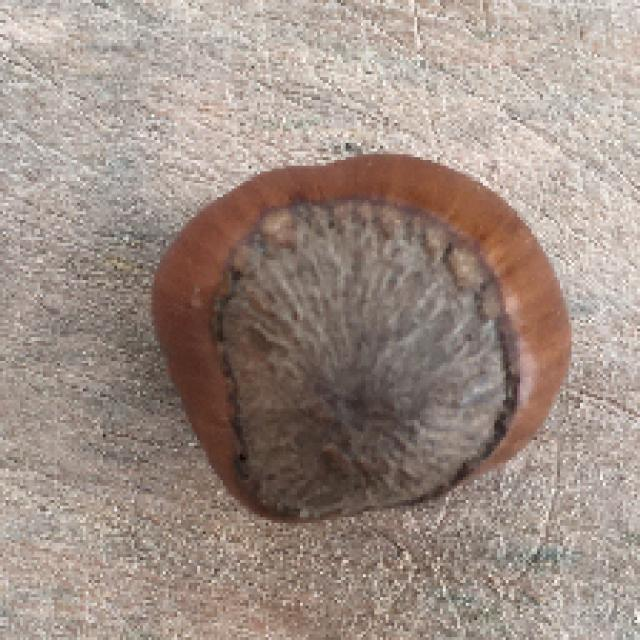DamagedHazelnut: (148, 155, 573, 527)
